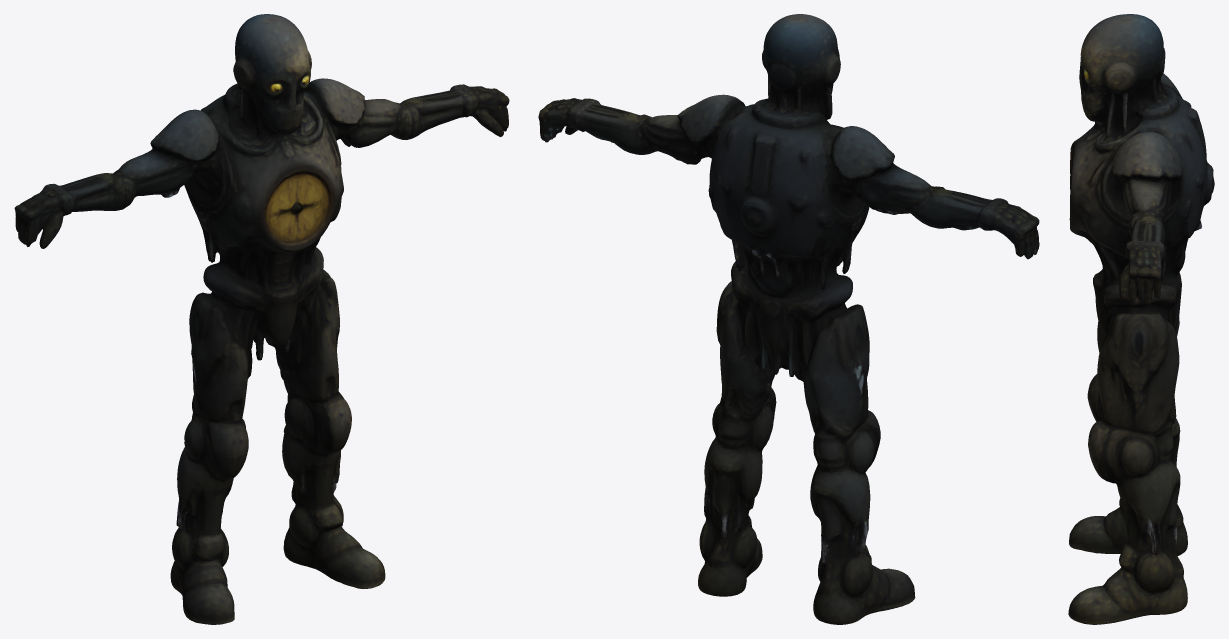
The model's file is Timebot.obj.
3 views of the same model, side by side, from view 1: azimuth 30°, elevation 25°; view 2: azimuth 150°, elevation 25°; view 3: azimuth 270°, elevation 25° (orthographic).
Parts seen in each view (by area): view 1: mesh; view 2: mesh; view 3: mesh.
Part boxes in pixels (x1,y1,x2,y2): mesh: (14,14,509,624); mesh: (538,14,1039,624); mesh: (1068,14,1214,624).
Bounding box in the file's own units: 0.8974 × 1 × 0.2364.
Materials: 1 (1 with a texture image).
